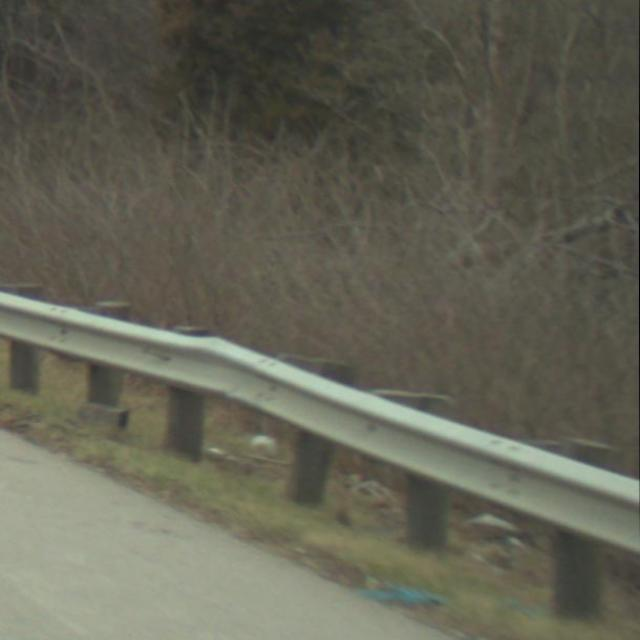Guard rail: (0, 273, 640, 634)
